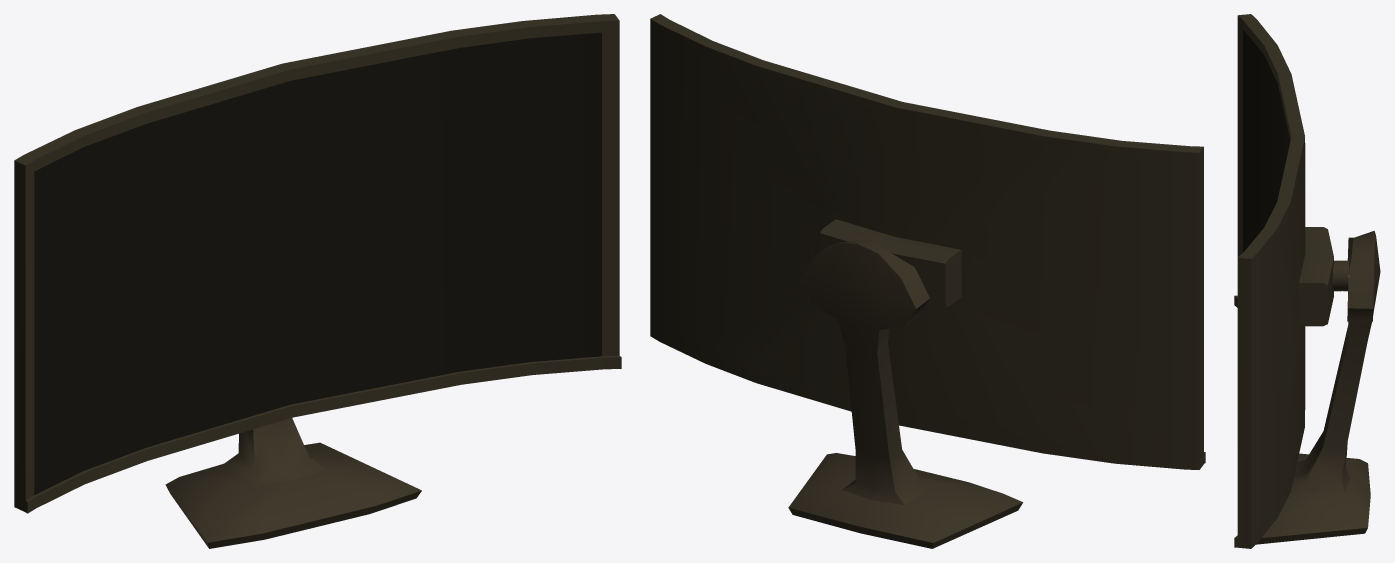
The model's file is PC_Monitor.fbx.
3 renders of one model, left to right at view 1: azimuth 30°, elevation 25°; view 2: azimuth 150°, elevation 25°; view 3: azimuth 270°, elevation 25°, orthographic. The views are drawn at different scales.
Parts seen in each view (by area): view 1: PC_Monitor; view 2: PC_Monitor; view 3: PC_Monitor.
Boxes of the visible parts, box(x1,y1,x2,y2) form: PC_Monitor: box(14, 14, 621, 548); PC_Monitor: box(650, 14, 1205, 548); PC_Monitor: box(1234, 14, 1380, 548).
Size of the model in its own units: 95.35 by 66.44 by 24.03.
